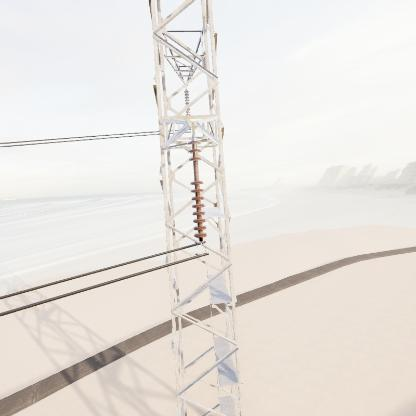insulator: (186, 137, 211, 244)
